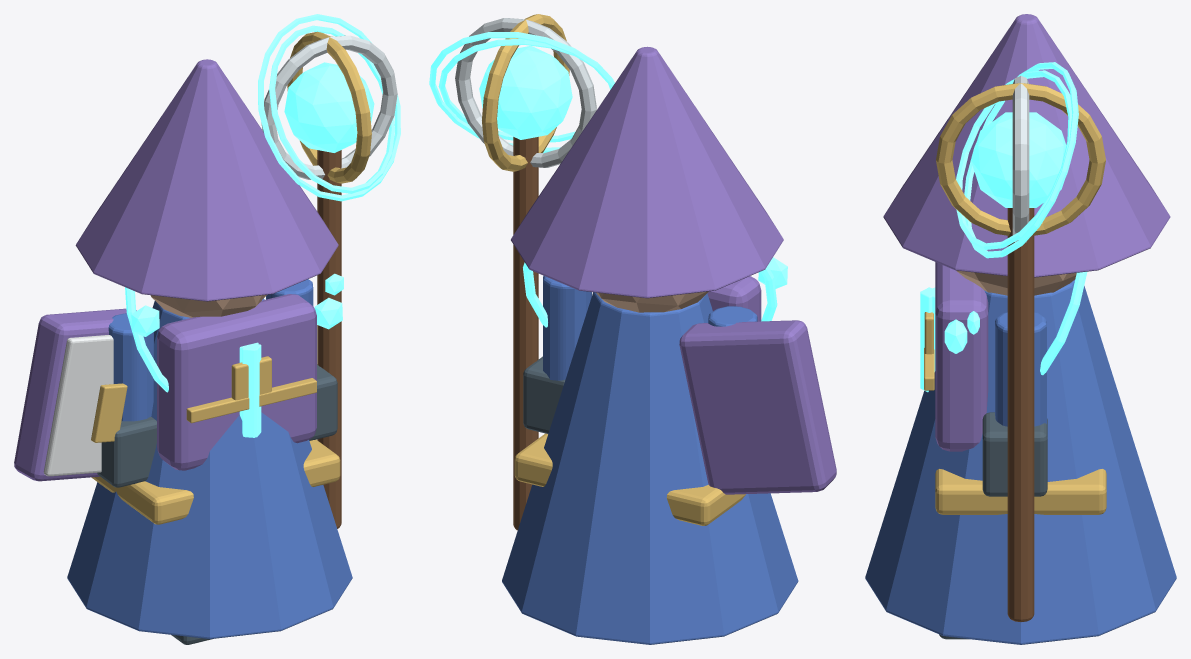
The model's file is arc_mage.glb.
3 views of the same model, side by side, from view 1: azimuth 30°, elevation 25°; view 2: azimuth 150°, elevation 25°; view 3: azimuth 270°, elevation 25° (orthographic). The views are drawn at different scales.
Parts seen in each view (by area): view 1: Robe, Hat, RobeChest, BookPage, Spellbook, ArcOrb, Staff, OrbRingA, Belt.002, OrbRingB, Arm_-1.003, Glove_-1.001 (+12 smaller); view 2: Robe, Hat, Spellbook, Staff, ArcOrb, OrbRingA, Belt.002, Arm_1.003, OrbRingB, Glove_1.001, V8StaffHalo, V9StaffOrbit (+4 smaller); view 3: Robe, Hat, Staff, RobeChest, OrbRingB, ArcOrb, Belt.002, Glove_1.001, Arm_1.003, OrbRingA, V8StaffHalo, V9StaffOrbit (+4 smaller).
Part boxes in pixels (box(x1,y1,x2,y2)): Robe: box(67, 298, 352, 639); Hat: box(75, 59, 338, 301); RobeChest: box(157, 294, 316, 470); BookPage: box(43, 335, 113, 476); Spellbook: box(14, 308, 136, 481); ArcOrb: box(284, 62, 374, 152); Staff: box(317, 150, 341, 528); OrbRingA: box(261, 35, 397, 179); Belt.002: box(91, 439, 340, 524); OrbRingB: box(287, 31, 371, 183); Arm_-1.003: box(108, 313, 153, 421); Glove_-1.001: box(97, 417, 156, 487); Robe: box(502, 292, 798, 644); Hat: box(511, 46, 783, 298); Spellbook: box(679, 320, 836, 494); Staff: box(513, 137, 538, 530); ArcOrb: box(479, 46, 572, 139); OrbRingA: box(455, 18, 596, 167); Belt.002: box(514, 433, 745, 525); Arm_1.003: box(543, 275, 591, 380); OrbRingB: box(482, 14, 569, 171); Glove_1.001: box(523, 356, 565, 433); V8StaffHalo: box(429, 32, 614, 153); V9StaffOrbit: box(438, 39, 613, 142); Robe: box(865, 279, 1176, 644); Hat: box(883, 14, 1170, 277); Staff: box(1007, 208, 1034, 621); RobeChest: box(935, 262, 988, 451); OrbRingB: box(936, 83, 1105, 235); ArcOrb: box(971, 112, 1066, 207); Belt.002: box(935, 469, 1106, 514); Glove_1.001: box(982, 412, 1047, 496); Arm_1.003: box(995, 312, 1046, 426); OrbRingA: box(1012, 76, 1029, 242); V8StaffHalo: box(964, 62, 1078, 258); V9StaffOrbit: box(956, 70, 1072, 249).
Size of the model in its own units: 1.62 by 2.22 by 1.05.
